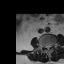CCS_normal: (47, 43, 49, 52)
LFS_stenosis: (50, 43, 52, 49)
LLS_normal: (49, 43, 50, 50)
RFS_stenosis: (43, 43, 45, 49)
RLS_normal: (45, 43, 47, 50)
